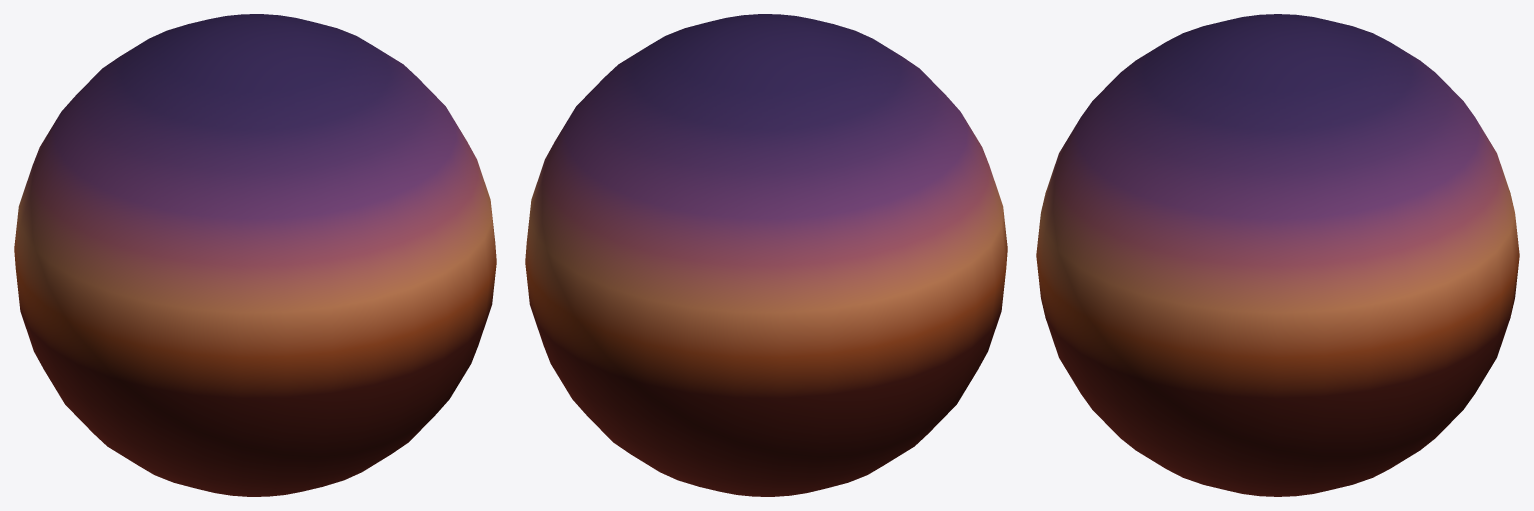
File: arena.fbx
3 renders of one model, left to right at view 1: azimuth 30°, elevation 25°; view 2: azimuth 150°, elevation 25°; view 3: azimuth 270°, elevation 25°, orthographic.
Visible parts, largest first — view 1: arena_sky; view 2: arena_sky; view 3: arena_sky.
Part boxes in pixels (x1,y1,x2,y2): arena_sky: (14,14,496,496); arena_sky: (525,14,1007,496); arena_sky: (1036,14,1519,496).
Bounding box in the file's own units: 840 × 840 × 840.
